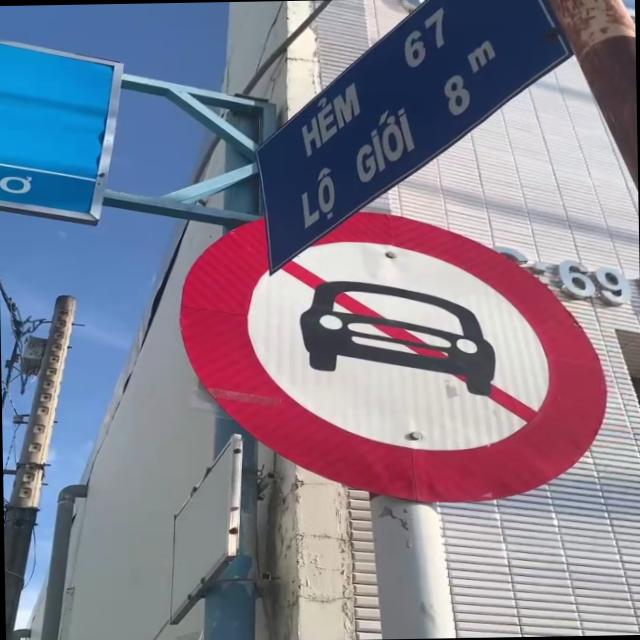Cam_O_To: (188, 204, 612, 507)
